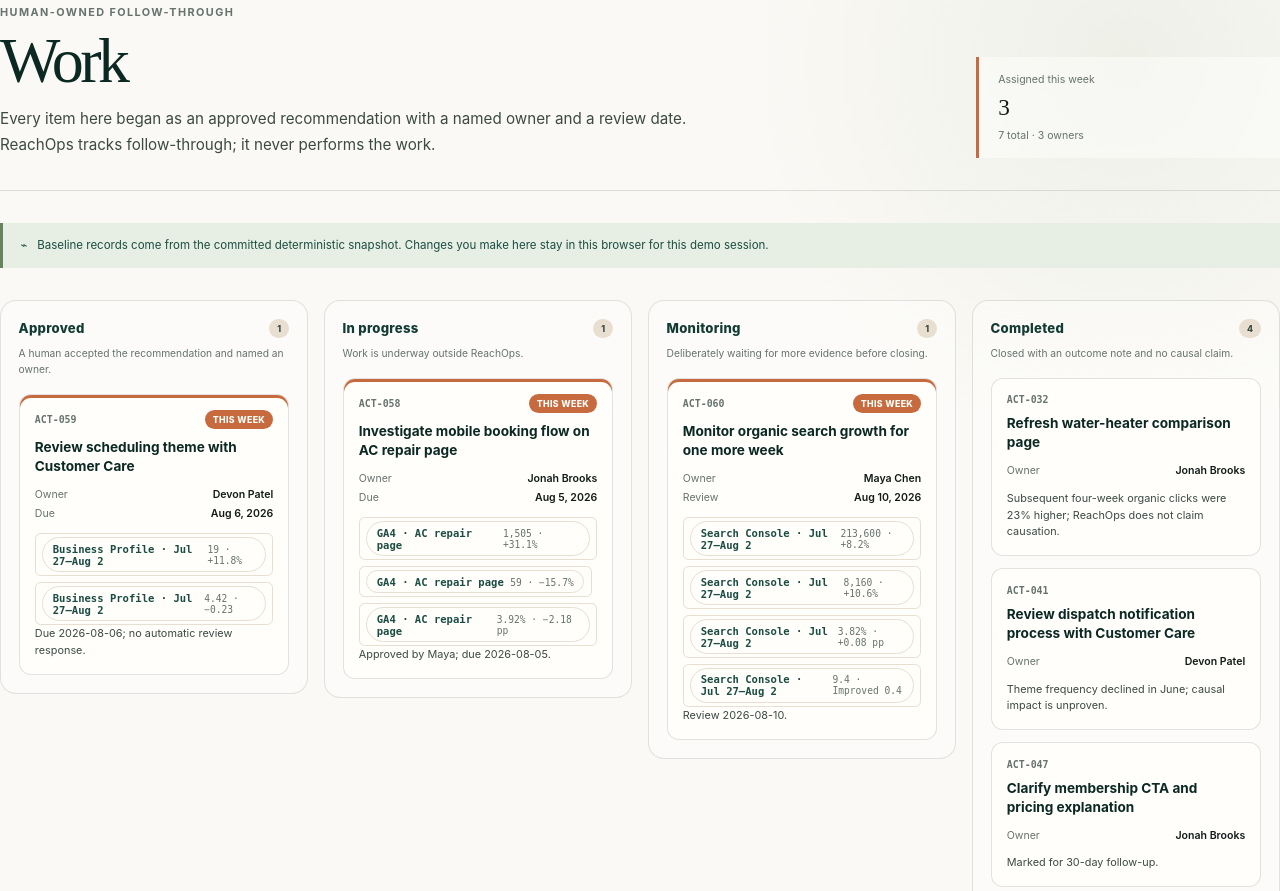
ActionsView › opens an action and offers only human-permitted transitions
// 059 is approved, so the only legitimate next step is starting the work.
Click the button "Review scheduling theme with Customer Care".
click(154, 457)  # box [35,438,273,475]
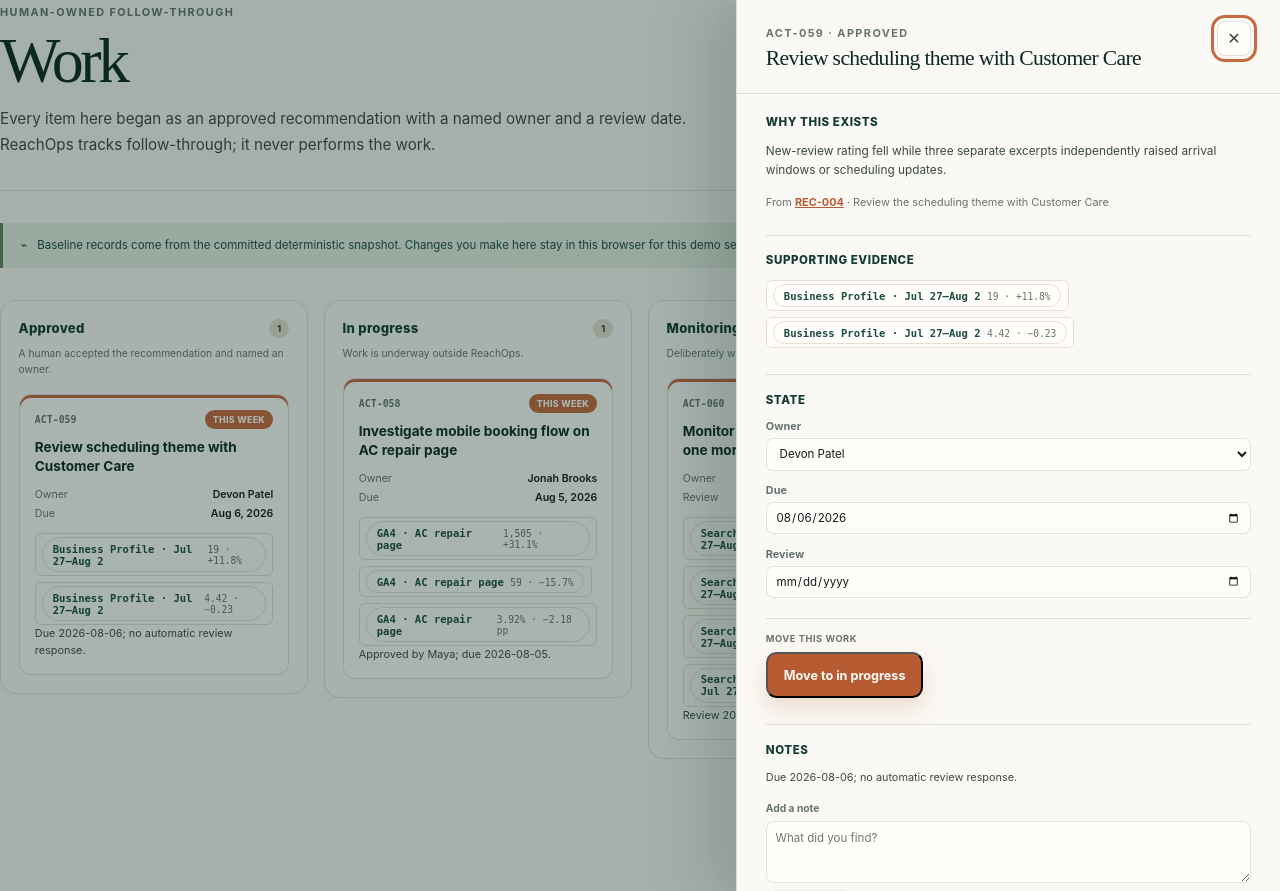
Now the button "Move to in progress" is shown, box [766,652,924,698]
